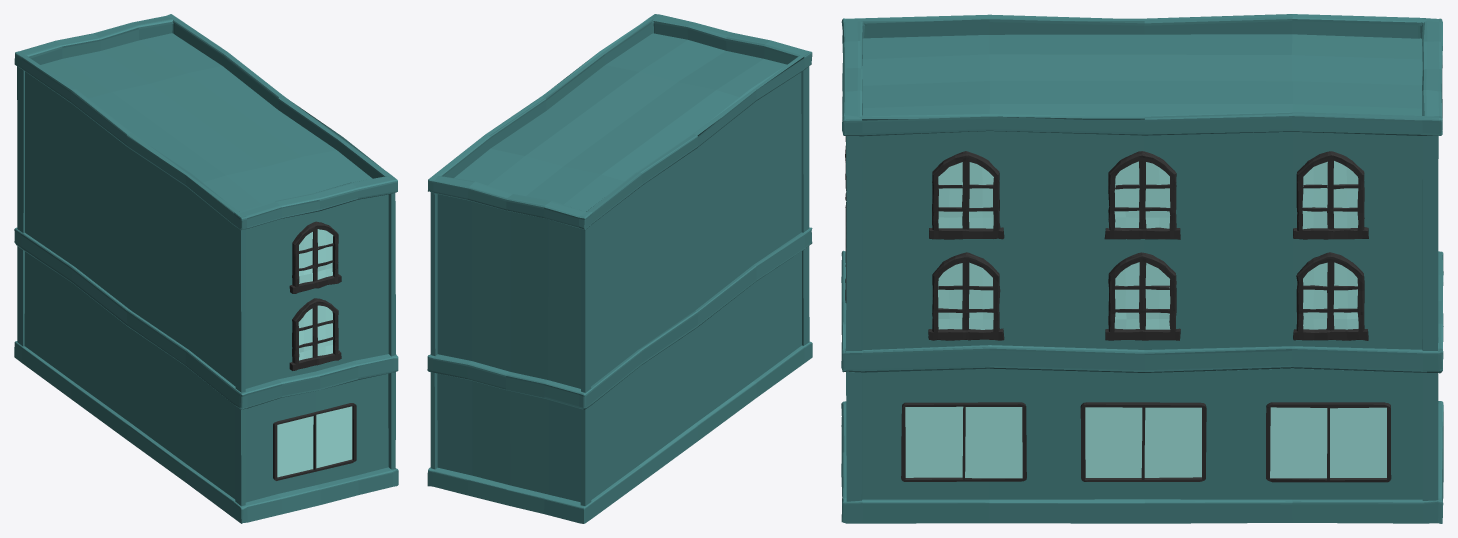
Rendered from school 2.fbx.
The picture shows the model from 3 angles, left to right: view 1: azimuth 30°, elevation 25°; view 2: azimuth 150°, elevation 25°; view 3: azimuth 270°, elevation 25°; orthographic projection. The views are drawn at different scales.
Parts seen in each view (by area): view 1: Cube.044; view 2: Cube.044; view 3: Cube.044.
Part boxes in pixels (left/top/right/bottom): Cube.044: left=14, top=14, right=398, bottom=523; Cube.044: left=427, top=14, right=812, bottom=523; Cube.044: left=841, top=14, right=1443, bottom=523.
Bounding box in the file's own units: 570 × 1059 × 1414.
